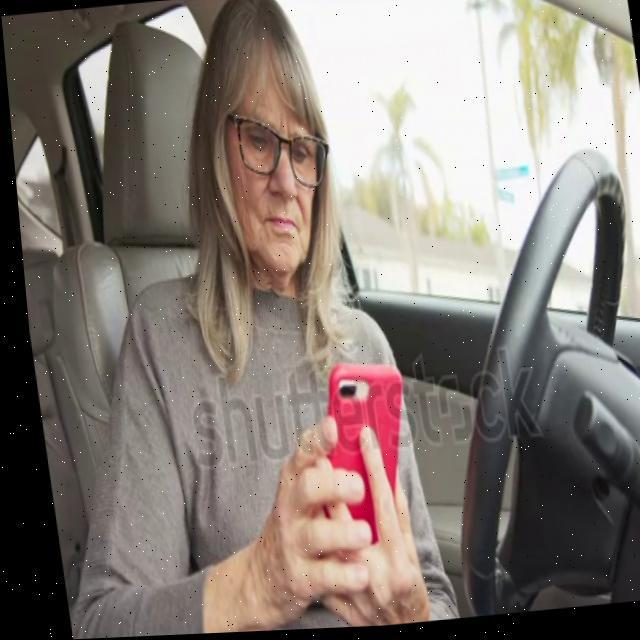PhoneCall: (308, 358, 414, 569)
